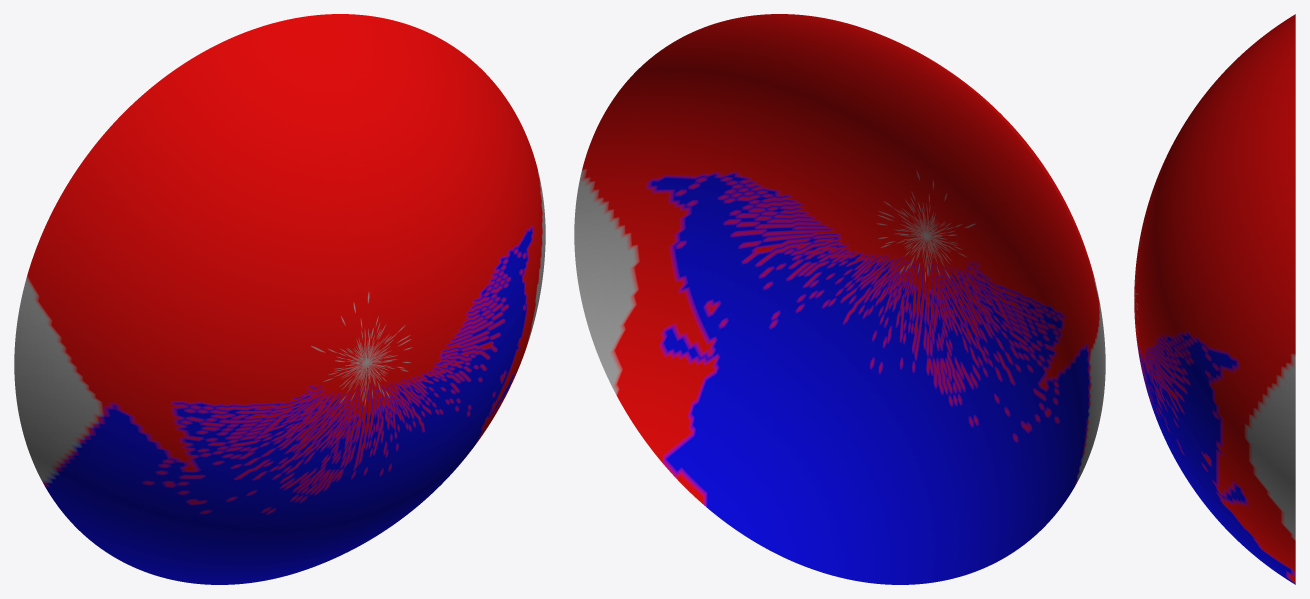
The model's file is dome_sky_model.glb.
The picture shows the model from 3 angles, left to right: view 1: azimuth 30°, elevation 25°; view 2: azimuth 150°, elevation 25°; view 3: azimuth 270°, elevation 25°; orthographic projection. The views are drawn at different scales.
Visible parts, largest first — view 1: world; view 2: world; view 3: world.
Boxes of the visible parts, x1,y1,x2,y2 form: world: (14,14,545,584); world: (574,14,1105,584); world: (1134,14,1295,584).
Size of the model in its own units: 85.72 by 85.72 by 24.25.
